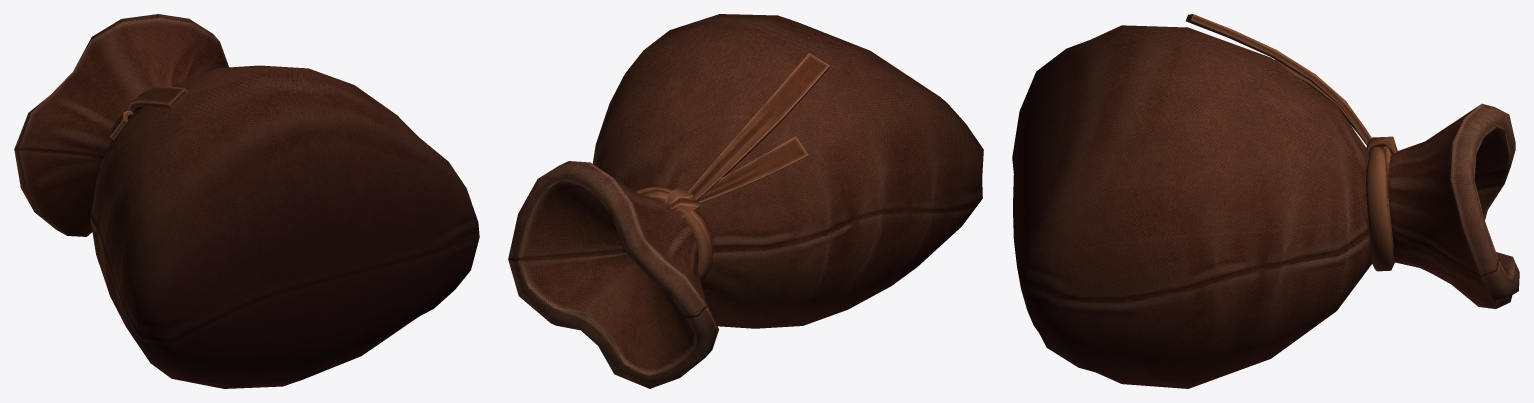
File: MiniBag.FBX
3 renders of one model, left to right at view 1: azimuth 30°, elevation 25°; view 2: azimuth 150°, elevation 25°; view 3: azimuth 270°, elevation 25°, orthographic. The views are drawn at different scales.
Parts seen in each view (by area): view 1: MiniBag; view 2: MiniBag; view 3: MiniBag.
Part boxes in pixels (x1,y1,x2,y2): MiniBag: (14, 14, 479, 388); MiniBag: (508, 14, 983, 388); MiniBag: (1012, 14, 1519, 388).
Bounding box in the file's own units: 25.96 × 21.47 × 30.29.
1 material, 1 textured.
